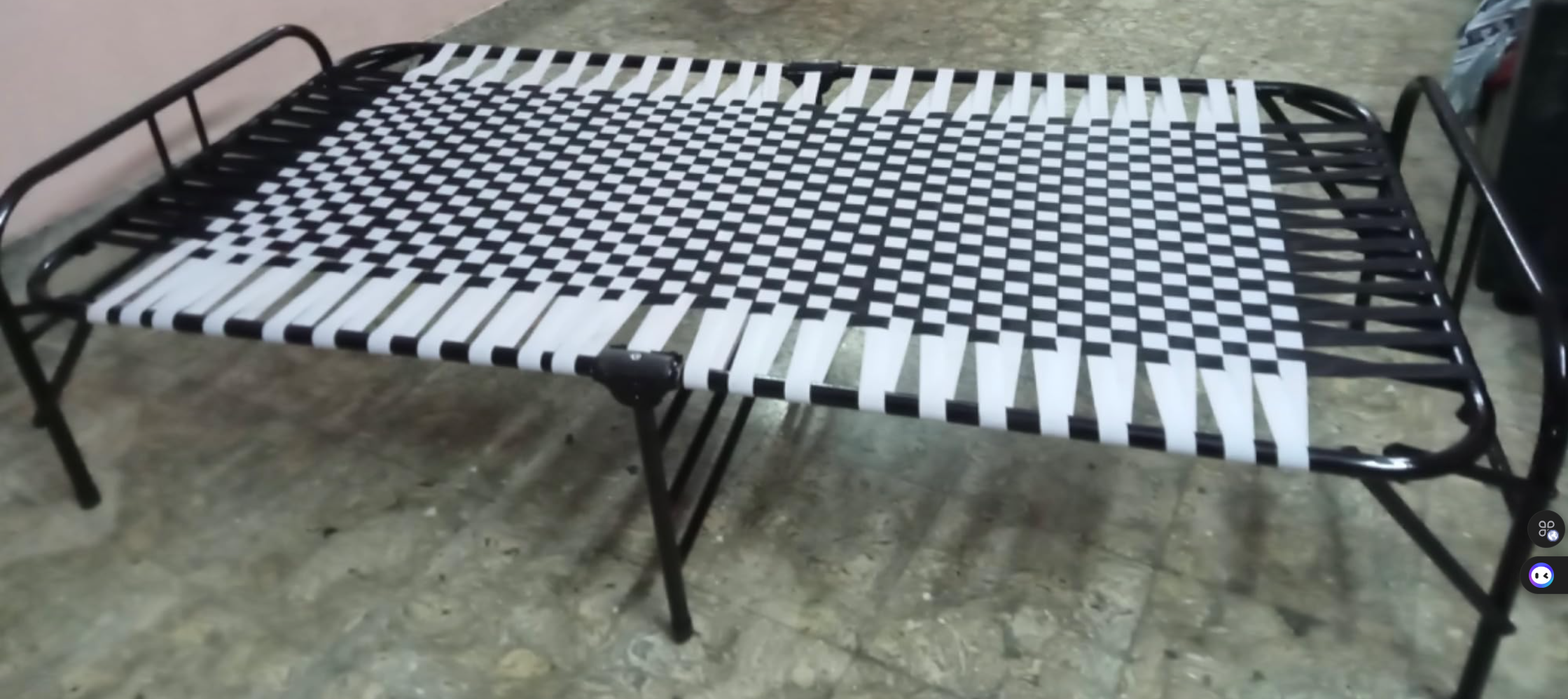cot: (11, 20, 1544, 686)
